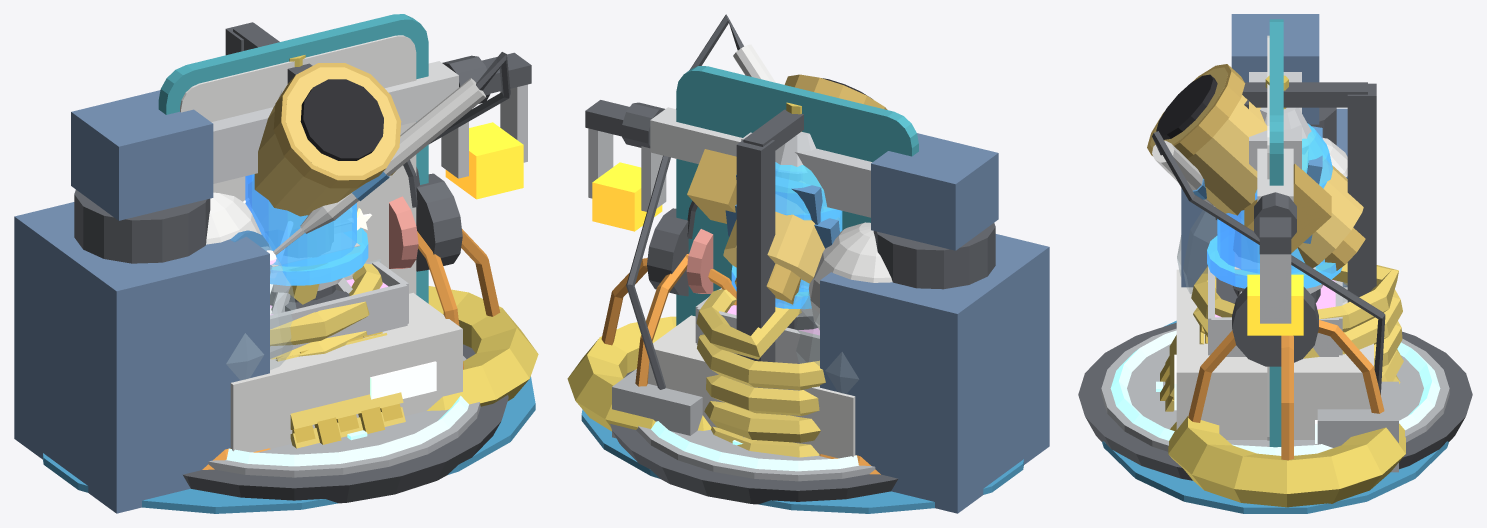
File: heroes.glb
3 views of the same model, side by side, from view 1: azimuth 30°, elevation 25°; view 2: azimuth 150°, elevation 25°; view 3: azimuth 270°, elevation 25° (orthographic). The views are drawn at different scales.
Visible parts, largest first — view 1: inv_robot_arm, inv_3d_printer, card_frame, inv_solar_still, holo_base, inv_uv_camera, inv_kevlar, inv_laserphaco, inv_blue_led, inv_sound_star, inv_electron_microscope; view 2: inv_robot_arm, inv_3d_printer, card_frame, inv_solar_still, inv_kevlar, holo_base, inv_laserphaco, inv_uv_camera, inv_sound_star, inv_blue_led, inv_electron_microscope, inv_foldscope; view 3: inv_solar_still, inv_3d_printer, holo_base, inv_robot_arm, inv_uv_camera, inv_laserphaco, inv_kevlar, inv_blue_led, card_frame, inv_sound_star, inv_electron_microscope.
Part boxes in pixels (x1,y1,x2,y2): inv_robot_arm: (14, 52, 531, 513); inv_3d_printer: (225, 22, 462, 452); card_frame: (158, 14, 428, 303); inv_solar_still: (43, 229, 538, 513); holo_base: (183, 344, 508, 503); inv_uv_camera: (254, 63, 401, 314); inv_kevlar: (270, 263, 405, 448); inv_laserphaco: (206, 52, 510, 274); inv_blue_led: (245, 174, 368, 285); inv_sound_star: (243, 160, 462, 271); inv_electron_microscope: (270, 55, 349, 311); inv_robot_arm: (585, 100, 1049, 513); inv_3d_printer: (648, 109, 855, 458); card_frame: (676, 66, 918, 325); inv_solar_still: (567, 254, 1023, 513); inv_kevlar: (696, 289, 825, 457); holo_base: (610, 370, 897, 504); inv_laserphaco: (612, 14, 892, 438); inv_uv_camera: (687, 74, 887, 437); inv_sound_star: (647, 201, 713, 296); inv_blue_led: (731, 162, 842, 309); inv_electron_microscope: (775, 102, 817, 329); inv_foldscope: (725, 175, 839, 248); inv_solar_still: (1102, 210, 1448, 513); inv_3d_printer: (1174, 82, 1376, 439); holo_base: (1078, 322, 1472, 480); inv_robot_arm: (1181, 14, 1347, 335); inv_uv_camera: (1147, 64, 1365, 296); inv_laserphaco: (1152, 131, 1398, 472); inv_kevlar: (1160, 263, 1403, 411); inv_blue_led: (1207, 123, 1342, 288); card_frame: (1267, 19, 1283, 447); inv_sound_star: (1232, 287, 1318, 366); inv_electron_microscope: (1216, 75, 1322, 303).
Size of the model in its own units: 0.8536 by 0.6646 by 0.68.
